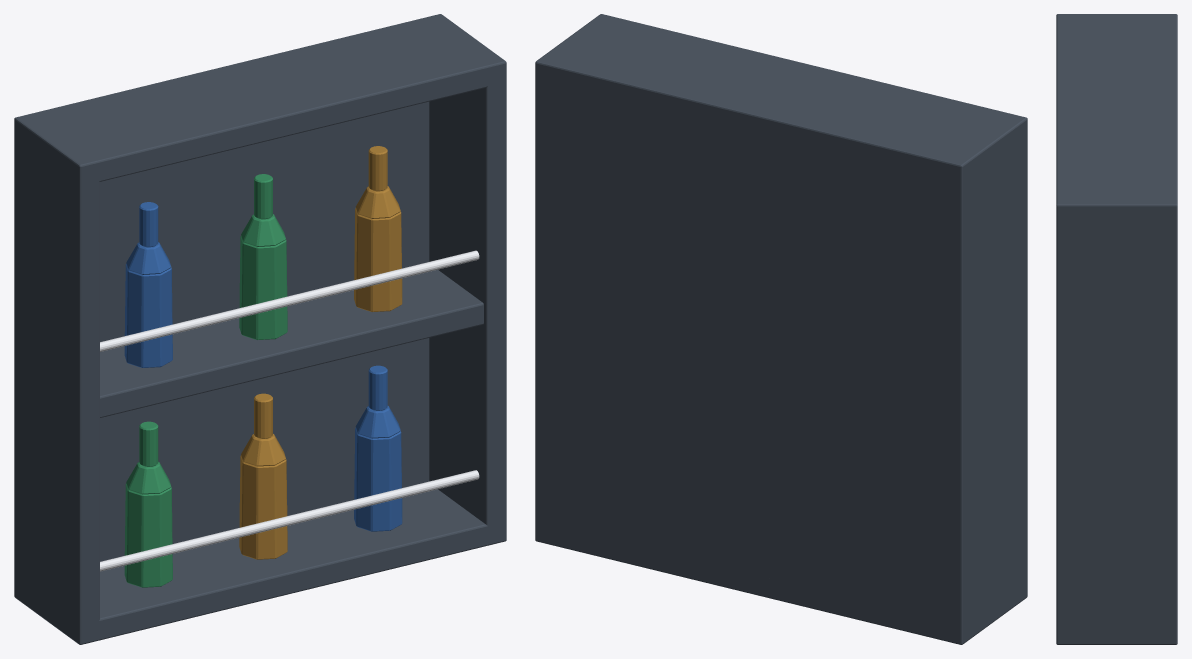
File: cantina_10_bottle_display.glb
3 views of the same model, side by side, from view 1: azimuth 30°, elevation 25°; view 2: azimuth 150°, elevation 25°; view 3: azimuth 270°, elevation 25° (orthographic). The views are drawn at different scales.
Parts seen in each view (by area): view 1: Display_Cabinet_Frame, Display_Retainer_Rails, Bottle_L3, Bottle_U3, Bottle_L1, Bottle_U1, Bottle_L2, Bottle_U2; view 2: Display_Cabinet_Frame; view 3: Display_Cabinet_Frame.
Part boxes in pixels (x1,y1,x2,y2): Display_Cabinet_Frame: (14,14,506,644); Display_Retainer_Rails: (100,250,479,571); Bottle_L3: (354,365,402,531); Bottle_U3: (354,146,402,311); Bottle_L1: (124,421,172,587); Bottle_U1: (124,202,172,367); Bottle_L2: (239,393,287,559); Bottle_U2: (239,174,287,339); Display_Cabinet_Frame: (535,14,1027,644); Display_Cabinet_Frame: (1056,14,1177,644).
Size of the model in its own units: 0.82 by 0.88 by 0.22.
